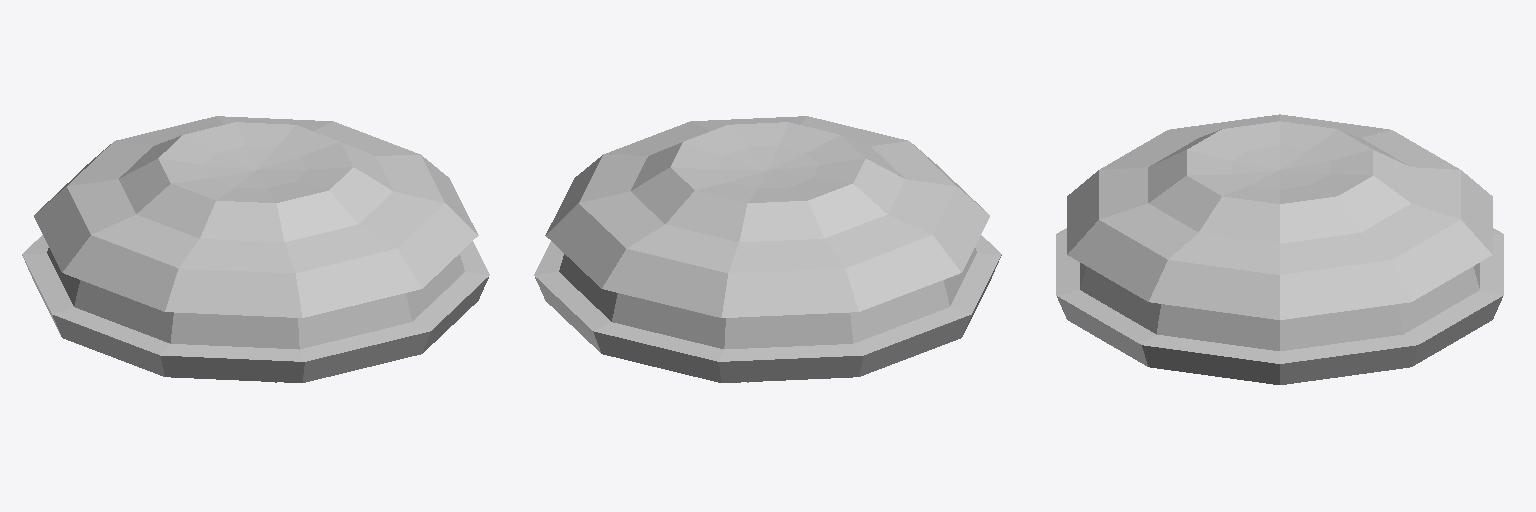
Rendered from shield.obj.
The picture shows the model from 3 angles: view 1: azimuth 30°, elevation 25°; view 2: azimuth 150°, elevation 25°; view 3: azimuth 270°, elevation 25°; orthographic projection.
Visible parts, largest first — view 1: Sphere; view 2: Sphere; view 3: Sphere.
Boxes of the visible parts, <box> form: Sphere: <box>22,116,489,382</box>; Sphere: <box>534,116,1001,382</box>; Sphere: <box>1056,114,1503,384</box>.
Bounding box in the file's own units: 2 × 0.8748 × 1.9.